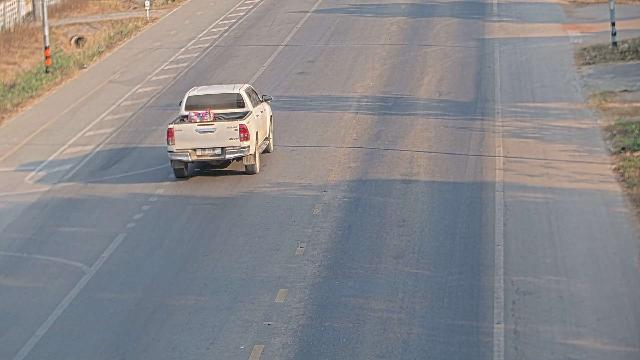pickup-truck: (165, 82, 274, 178)
